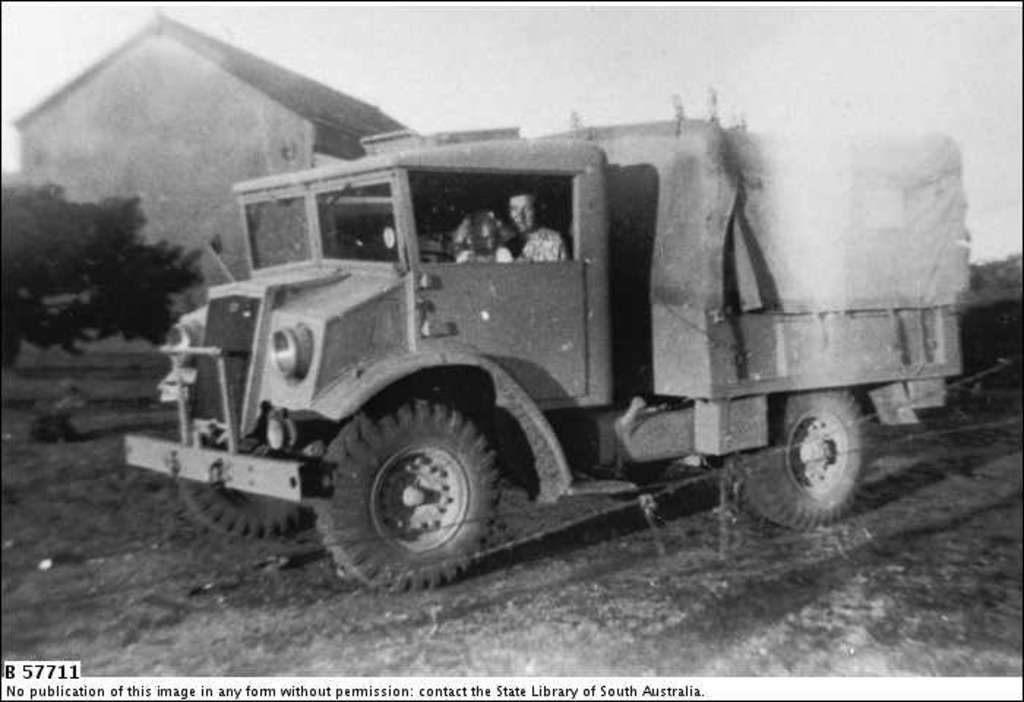Car: (115, 125, 969, 589)
